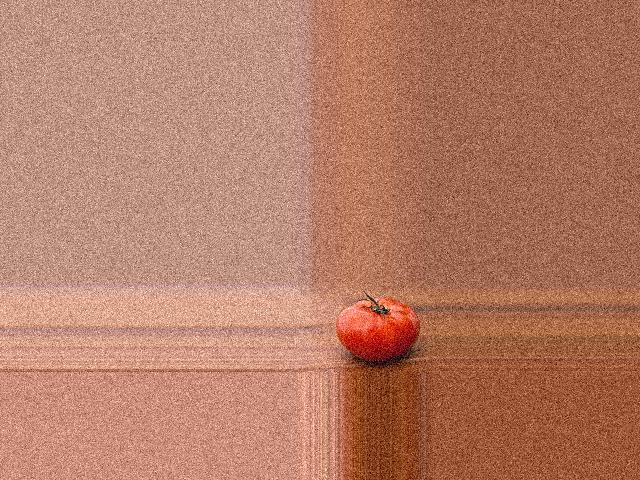tomato: (335, 298, 419, 361)
